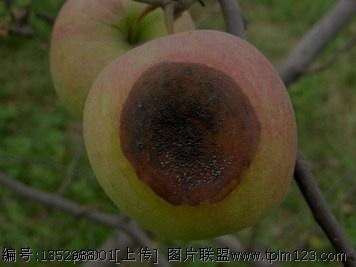rotten apple: (84, 29, 296, 243)
